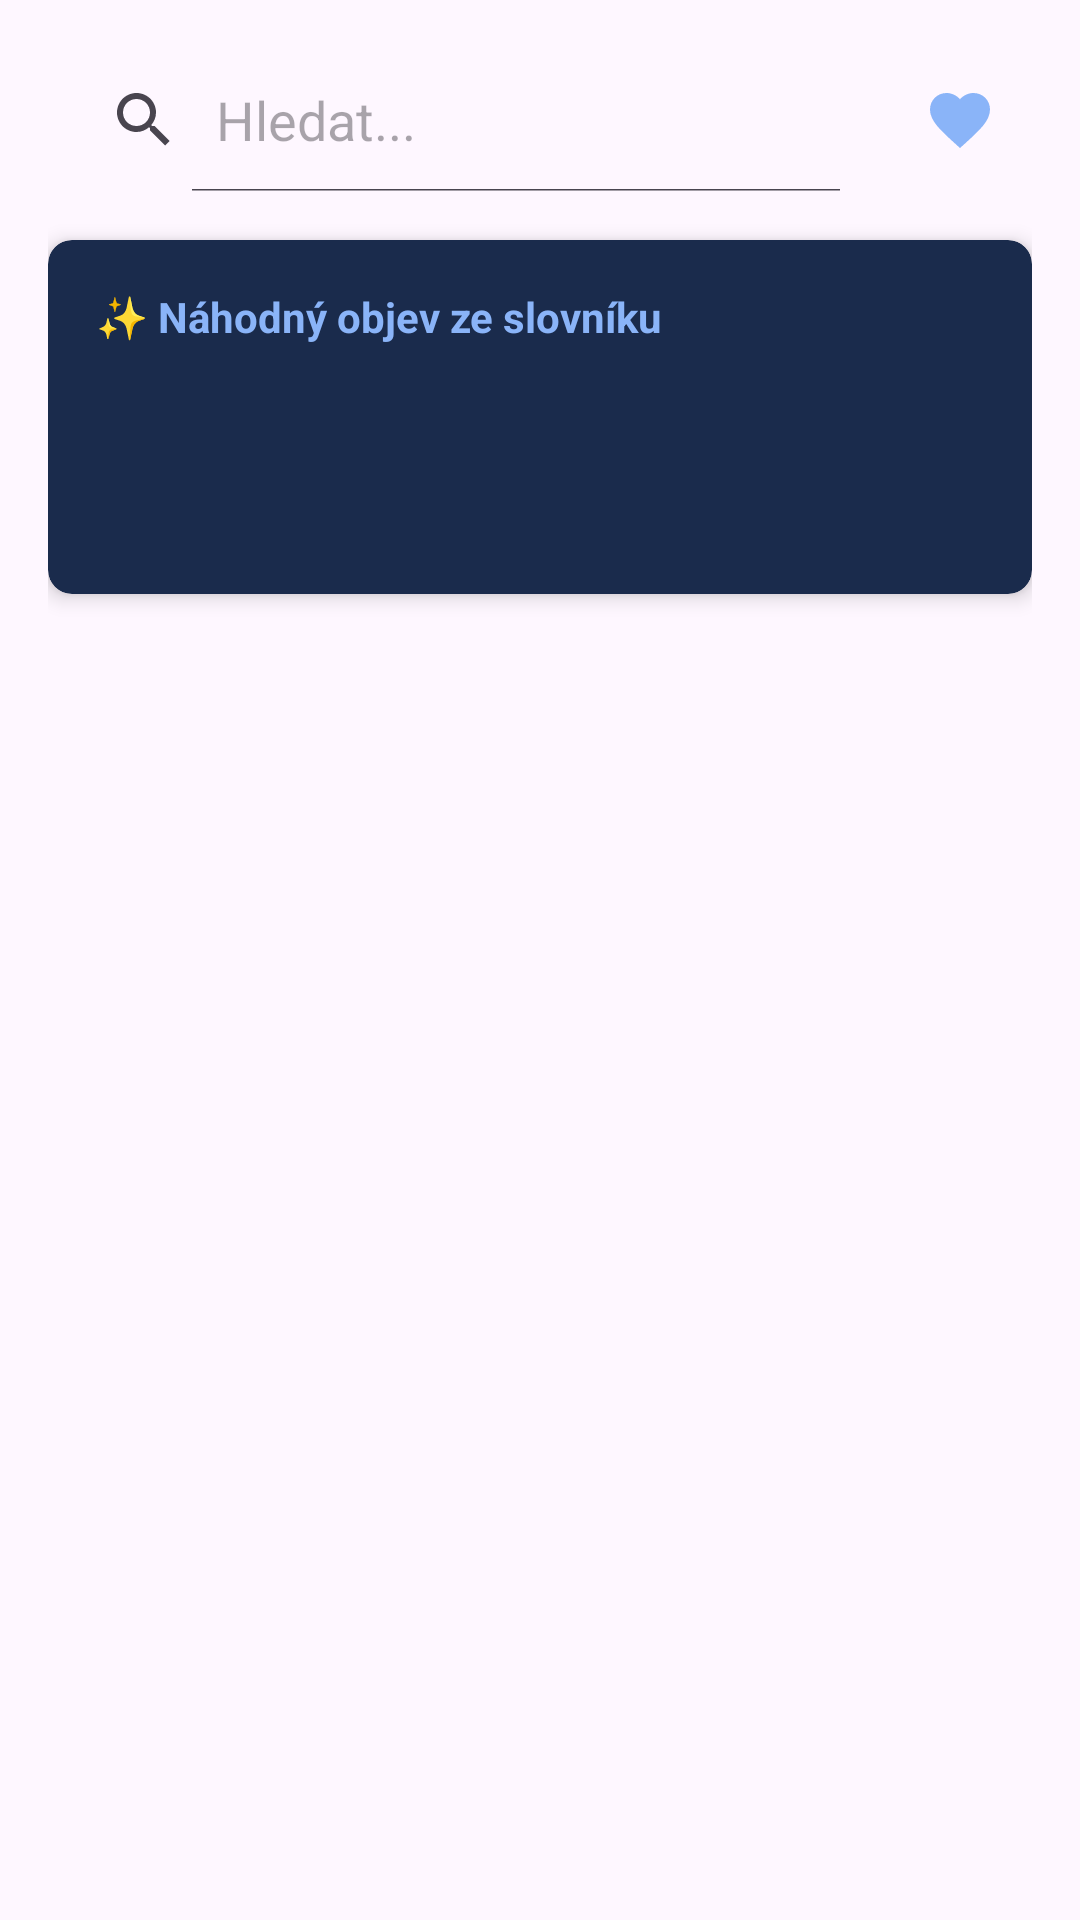

Screen size 1080×1920. Icon name, then its box in pixels as {"x1": x1, "y1": y1, "x2": x2, "y2": y2}:
Favorites button: {"x1": 930, "y1": 93, "x2": 990, "y2": 148}
